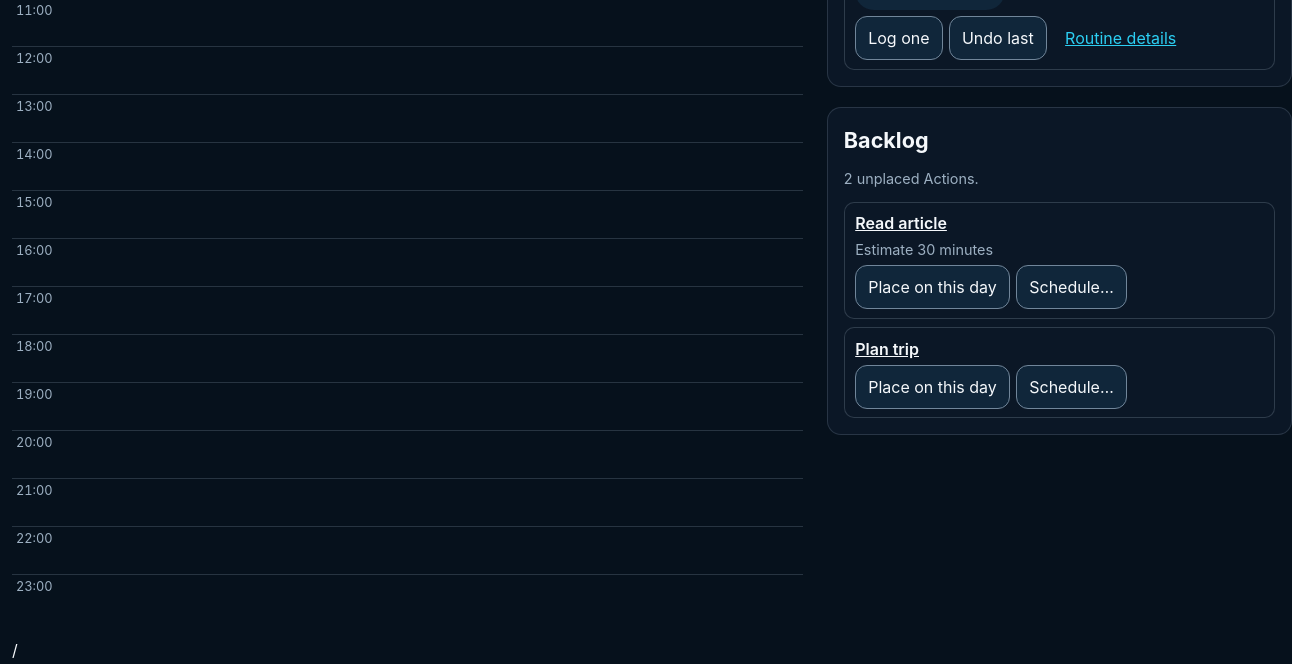
Test case: Day view › places a Backlog Action on this day directly with a named button
(page scrolled)
Click the button named "Place on this day Read article" at (933, 287), box 855,265 -> 1010,309
(page scrolled)
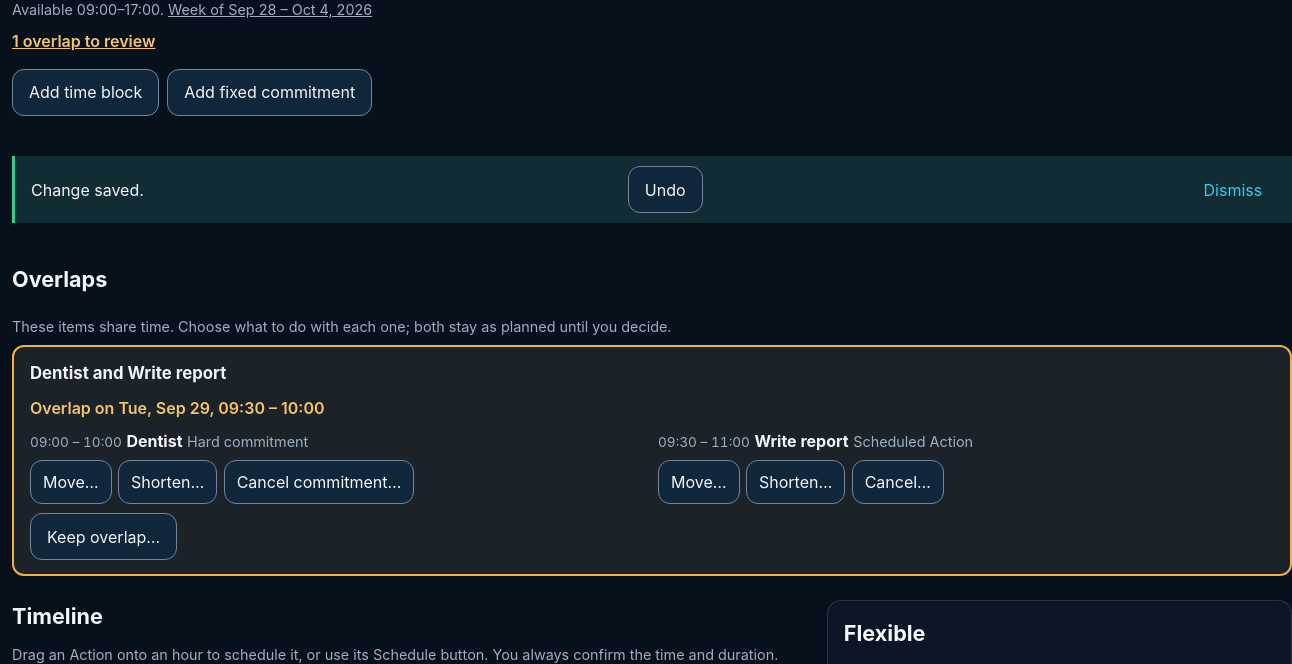
expect the button "Undo" is shown: met, box 628,166 -> 703,213
